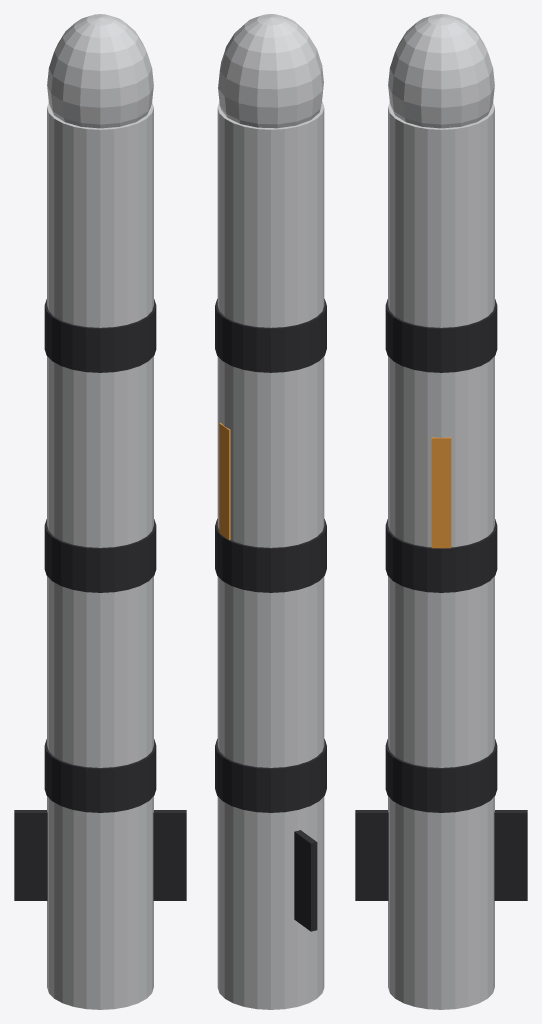
The model's file is SM_Starship_Placeholder.glb.
3 renders of one model, left to right at view 1: azimuth 90°, elevation 25°; view 2: azimuth 210°, elevation 25°; view 3: azimuth 270°, elevation 25°, orthographic.
Parts seen in each view (by area): view 1: SM_Starship_Placeholder; view 2: SM_Starship_Placeholder; view 3: SM_Starship_Placeholder.
Part boxes in pixels (x1,y1,x2,y2): SM_Starship_Placeholder: (14, 14, 186, 1009); SM_Starship_Placeholder: (215, 14, 326, 1009); SM_Starship_Placeholder: (355, 14, 527, 1009).
Bounding box in the file's own units: 4.6 × 44.08 × 7.1.
